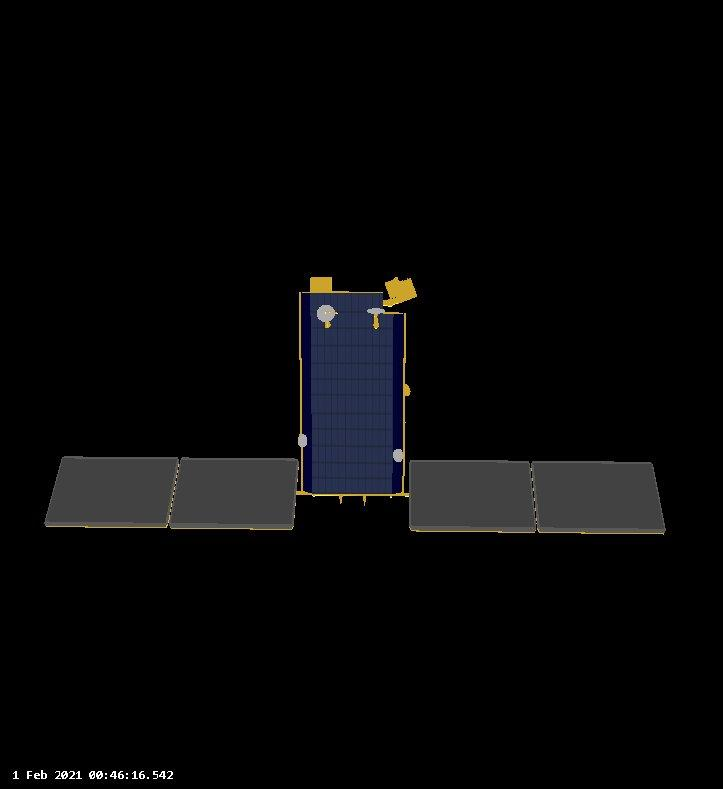antenna: (312, 300, 342, 325), (360, 303, 387, 321), (389, 443, 409, 467), (293, 429, 316, 448)
body: (287, 265, 413, 505)
solar: (42, 449, 304, 539), (404, 455, 672, 540)
